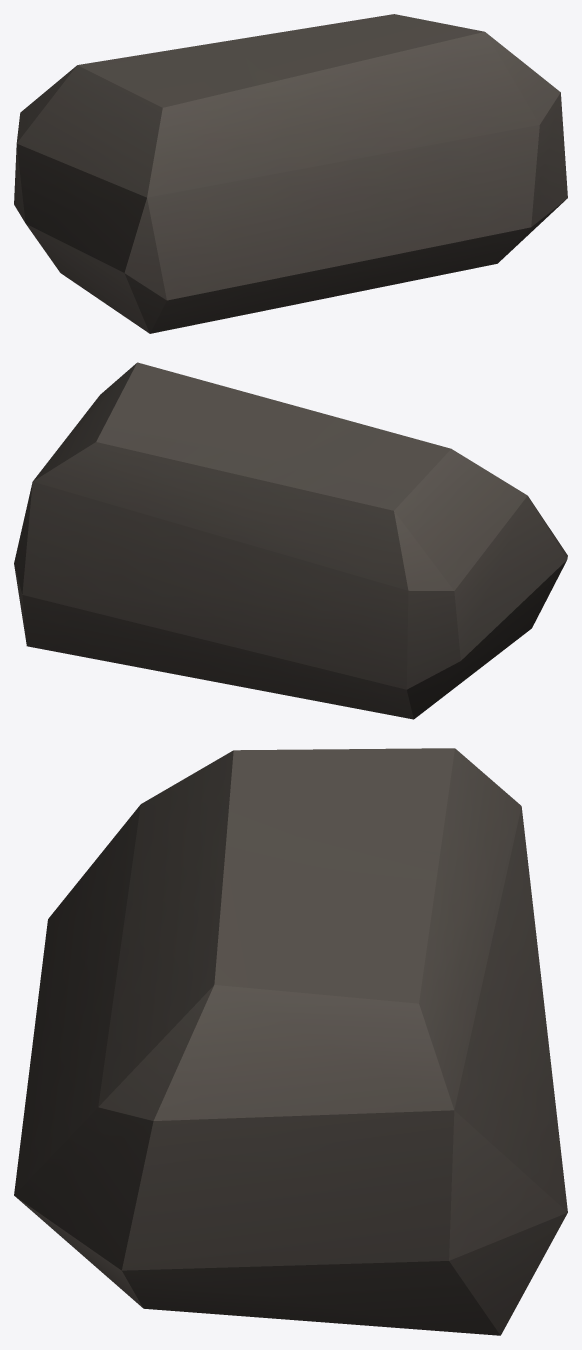
The model's file is Stone_Squarish_B.fbx.
The picture shows the model from 3 angles, top to bottom: view 1: azimuth 30°, elevation 25°; view 2: azimuth 150°, elevation 25°; view 3: azimuth 270°, elevation 25°; orthographic projection. The views are drawn at different scales.
Parts seen in each view (by area): view 1: Stone_Squarish_B; view 2: Stone_Squarish_B; view 3: Stone_Squarish_B.
Boxes of the visible parts, <box> form: Stone_Squarish_B: <box>14,14,567,333</box>; Stone_Squarish_B: <box>14,362,567,719</box>; Stone_Squarish_B: <box>14,748,567,1335</box>.
Bounding box in the file's own units: 35.63 × 16.46 × 24.46.
